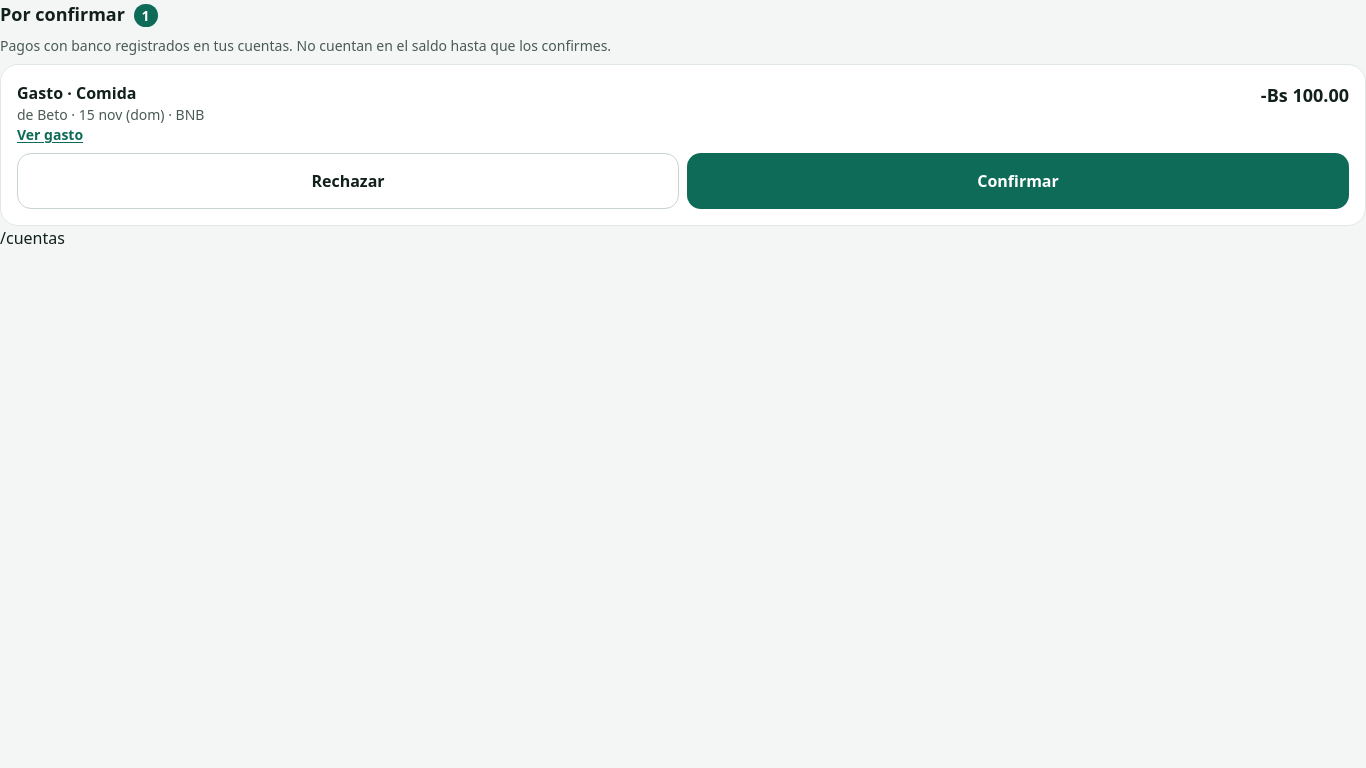
Bandeja «Por confirmar» › rechazar pide un motivo opcional y explica que el gasto pasa a Efectivo
Later steps or results of the test are not shown.
Click the button "Rechazar" at coordinates (348, 181), box [17,153,679,209]
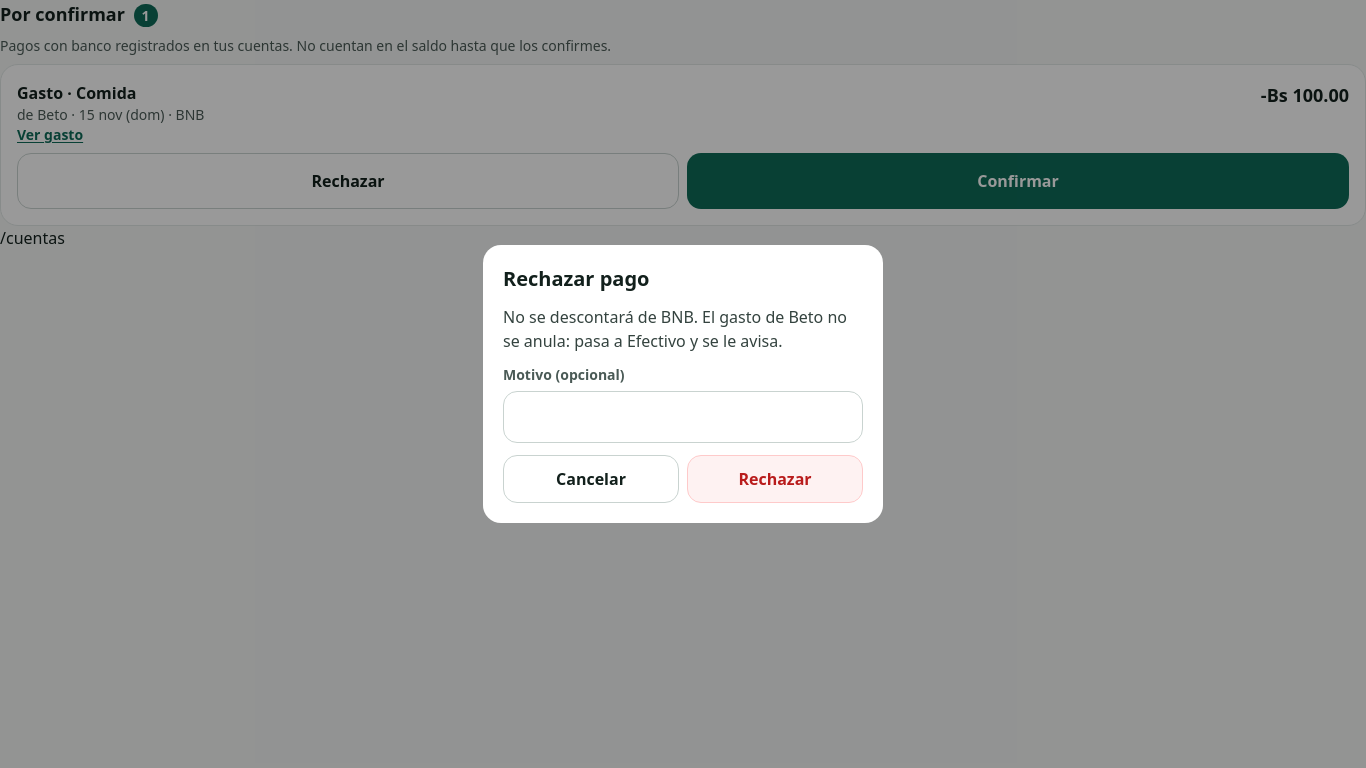
Expected: the dialog "Rechazar pago" shows "no se anula: pasa a Efectivo", [503,306,847,352]
